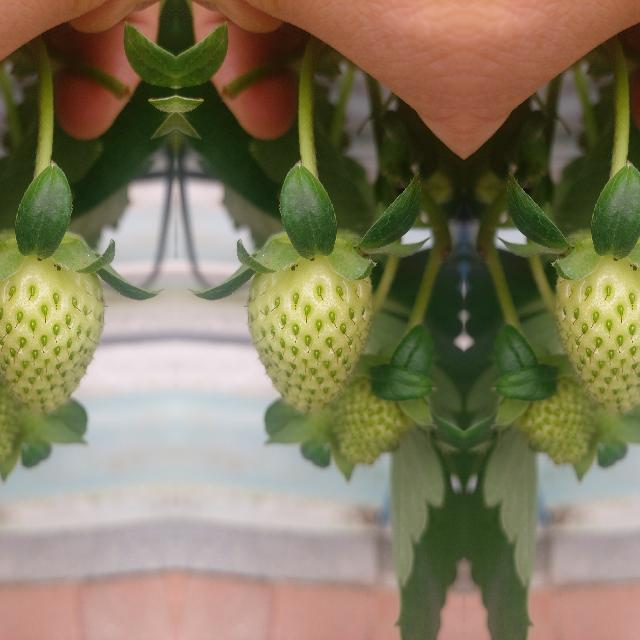Health_25: (246, 254, 370, 412), (0, 254, 103, 412), (556, 254, 640, 412)
